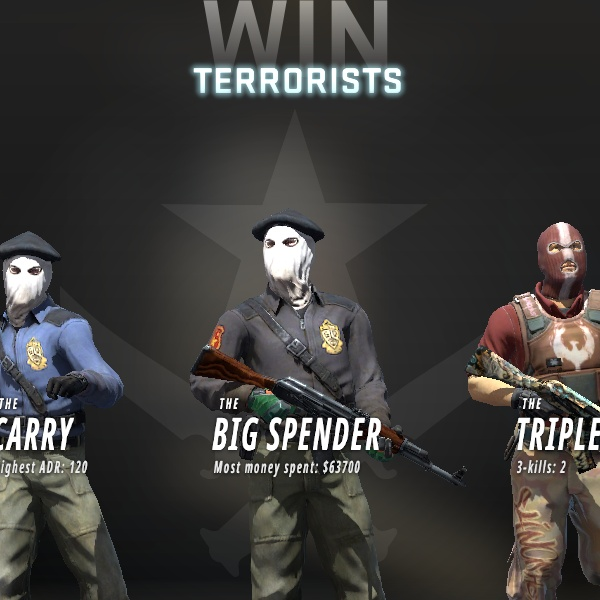t_body: (437, 203, 597, 600)
t_head: (510, 206, 600, 325)
